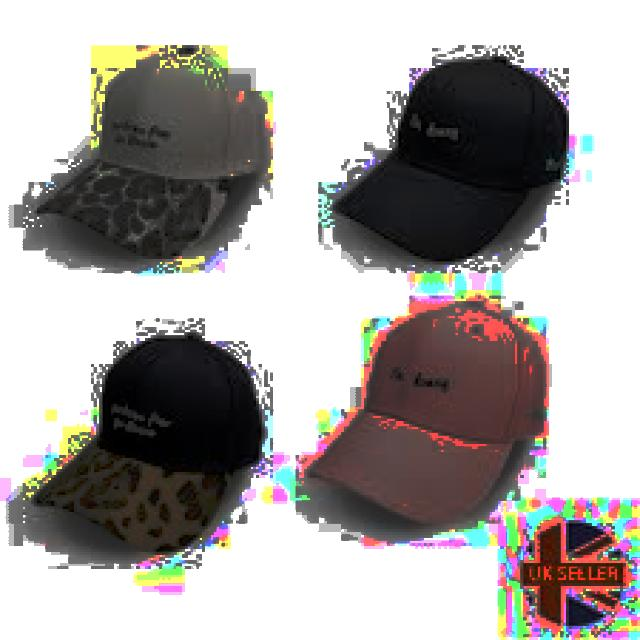TOPI: (304, 293, 546, 529), (29, 324, 268, 552), (324, 48, 569, 259), (28, 37, 259, 259)
